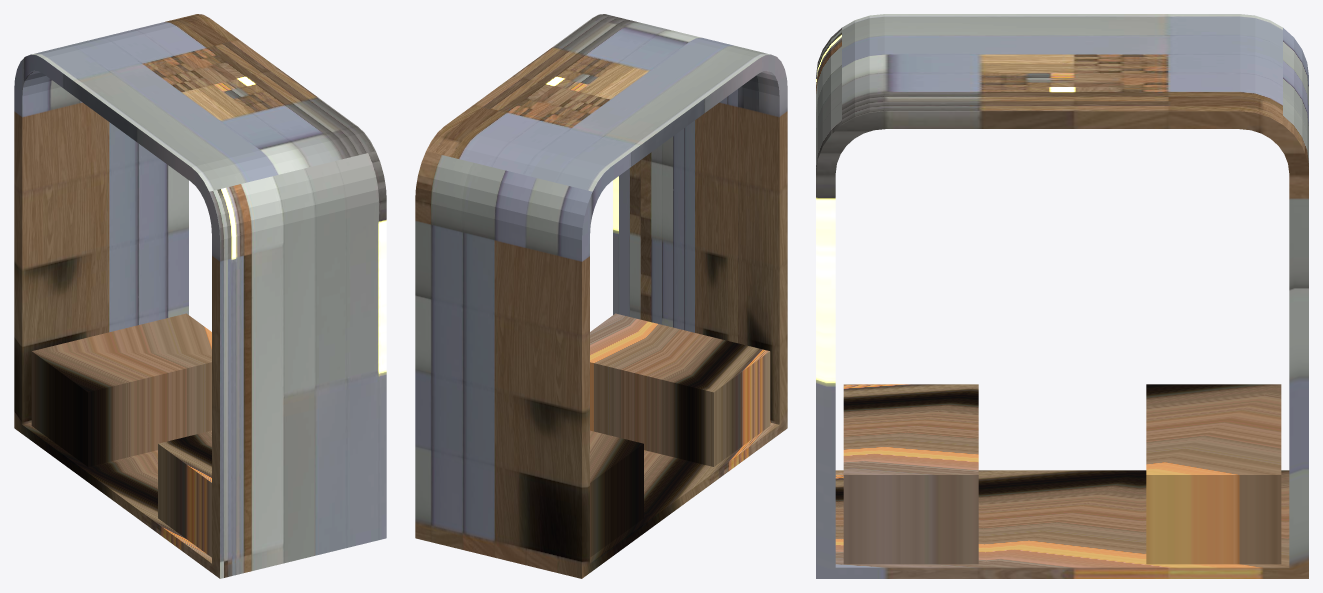
The model's file is Pod.glb.
3 views of the same model, side by side, from view 1: azimuth 30°, elevation 25°; view 2: azimuth 150°, elevation 25°; view 3: azimuth 270°, elevation 25° (orthographic). The views are drawn at different scales.
Visible parts, largest first — view 1: Cube; view 2: Cube; view 3: Cube.
Part boxes in pixels (x1=…): Cube: x1=14, y1=14, x2=386, y2=578; Cube: x1=415, y1=14, x2=787, y2=578; Cube: x1=816, y1=14, x2=1308, y2=578.
Bounding box in the file's own units: 0.9344 × 2.09 × 2.
1 material, 1 textured.
